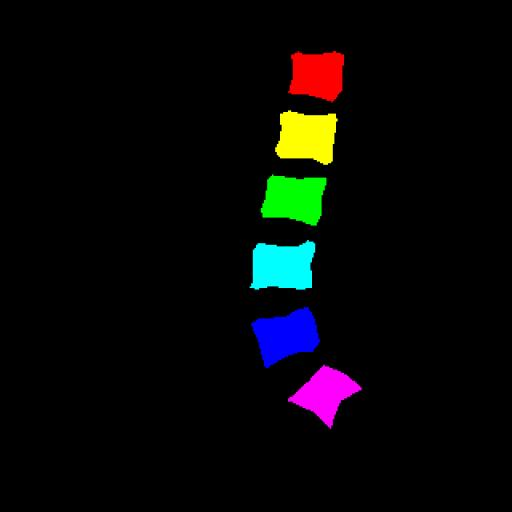L1: (289, 51, 344, 101)
L2: (275, 111, 337, 165)
L3: (261, 176, 326, 226)
L4: (250, 241, 315, 290)
L5: (252, 307, 319, 368)
S1: (288, 366, 362, 428)
